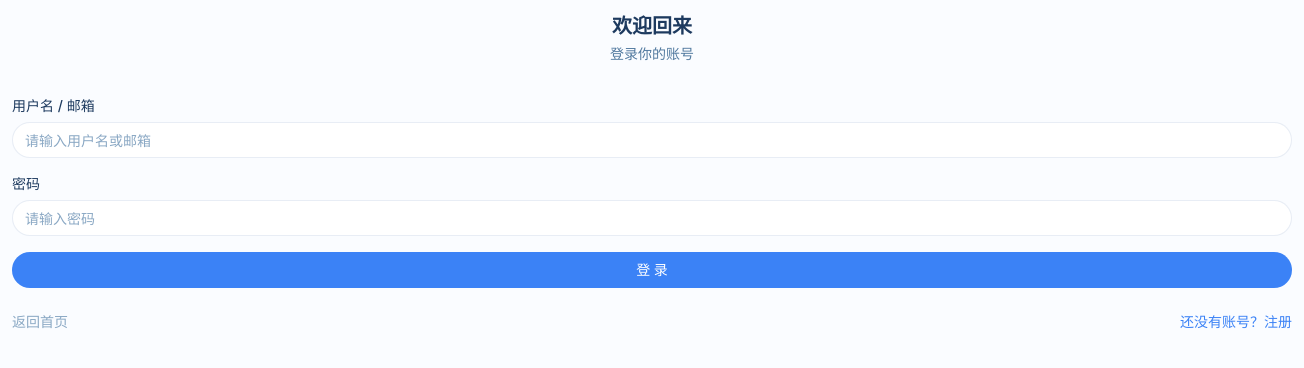
LoginPage › 密码过短显示校验错误
This screenshot has width=1304, height=368.
In the field labelled "用户名 / 邮箱": (652,140) [12,122,1292,158], type "tester"
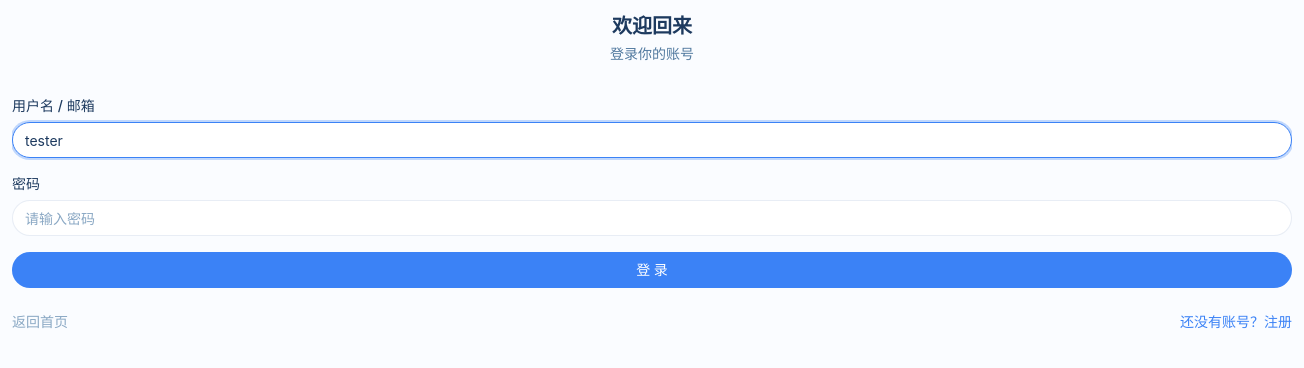
In the password field labelled "密码": (652,218) [12,200,1292,236], type "123"
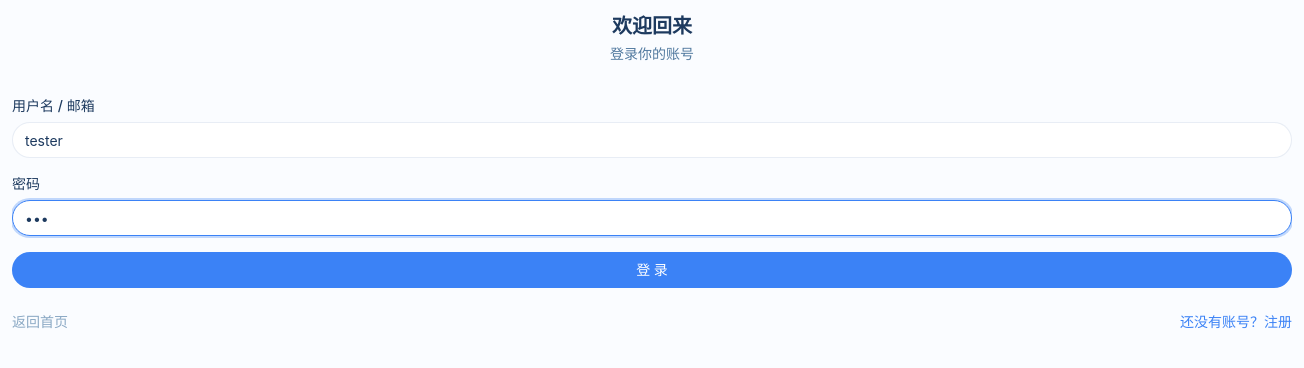
Click the button "登 录": (652,270) [12,252,1292,288]
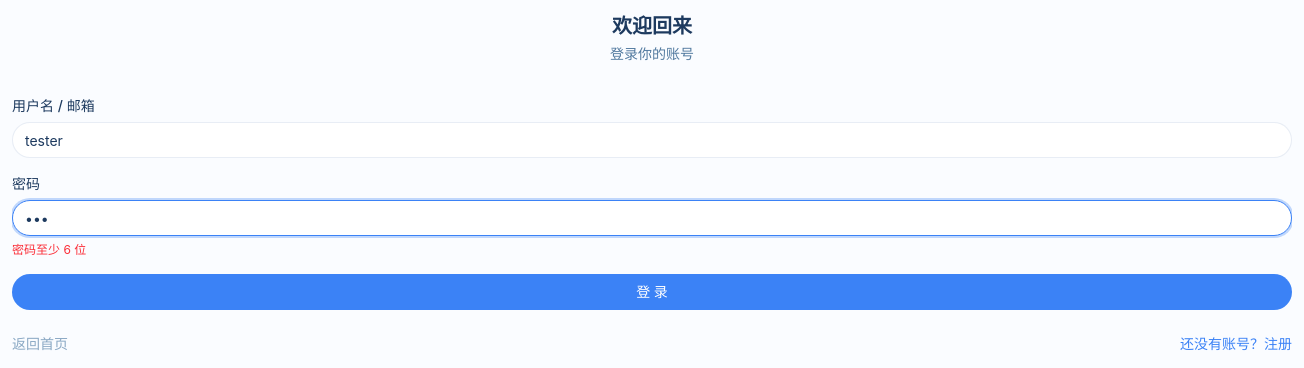
Expected: the text "密码至少 6 位" is shown, [12,242,86,257]
